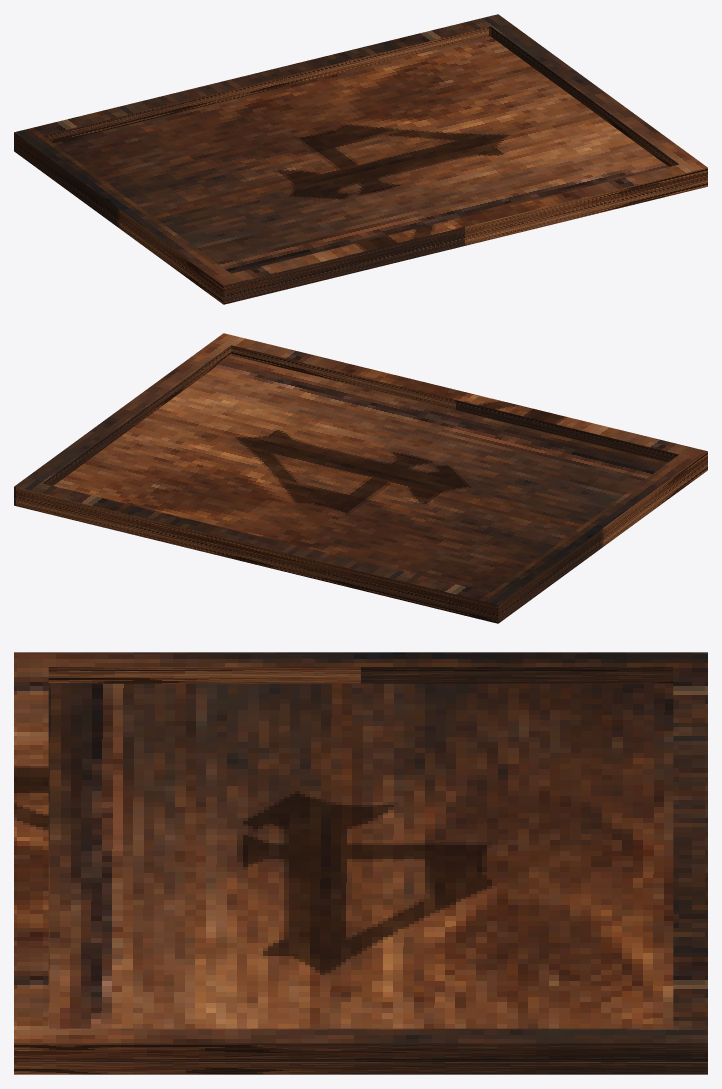
The model's file is door_4.glb.
3 renders of one model, top to bottom at view 1: azimuth 30°, elevation 25°; view 2: azimuth 150°, elevation 25°; view 3: azimuth 270°, elevation 25°, orthographic. The views are drawn at different scales.
Parts seen in each view (by area): view 1: Cube; view 2: Cube; view 3: Cube.
Part boxes in pixels (x1,y1,x2,y2): Cube: [14, 14, 707, 304]; Cube: [14, 333, 707, 623]; Cube: [14, 652, 707, 1074].
Size of the model in its own units: 4 by 0.15 by 3.
1 material, 1 textured.
